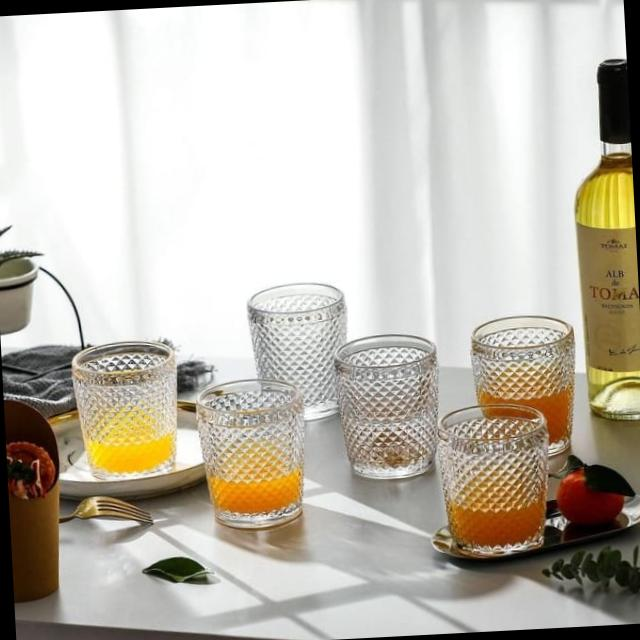glass: (561, 35, 639, 439), (433, 381, 560, 569), (328, 322, 457, 505), (193, 371, 318, 553), (55, 328, 192, 493), (243, 268, 367, 439), (463, 307, 582, 479)
